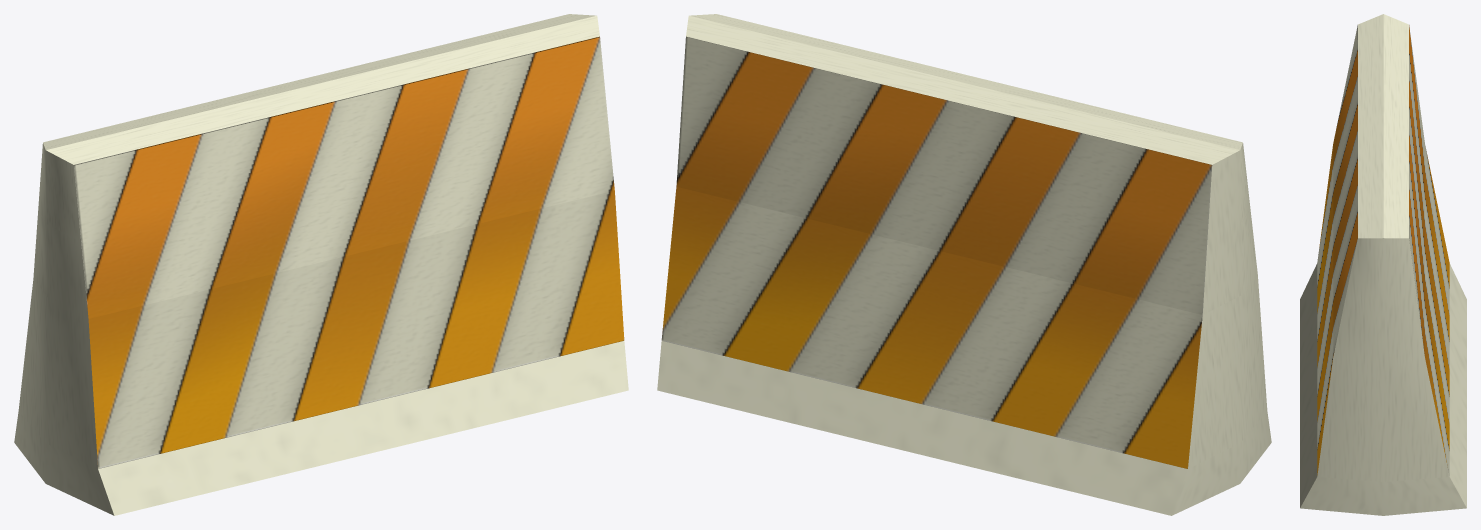
Rendered from concrete_fence.fbx.
The picture shows the model from 3 angles, left to right: view 1: azimuth 30°, elevation 25°; view 2: azimuth 150°, elevation 25°; view 3: azimuth 270°, elevation 25°; orthographic projection. The views are drawn at different scales.
Visible parts, largest first — view 1: Cube; view 2: Cube; view 3: Cube.
Part boxes in pixels (left/top/right/bottom): Cube: left=14, top=14, right=628, bottom=515; Cube: left=657, top=14, right=1271, bottom=515; Cube: left=1300, top=14, right=1466, bottom=515.
Bounding box in the file's own units: 205 × 118 × 64.51.
2 materials, 2 textured.
